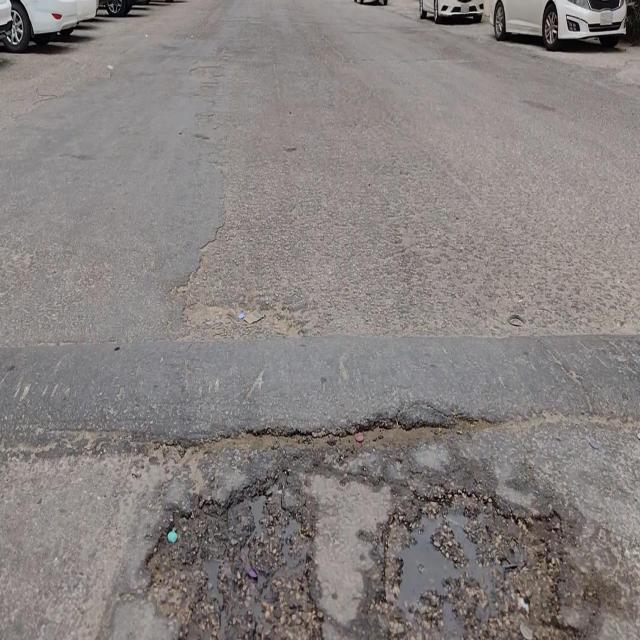Potholes: (143, 462, 328, 639), (375, 482, 577, 638)
